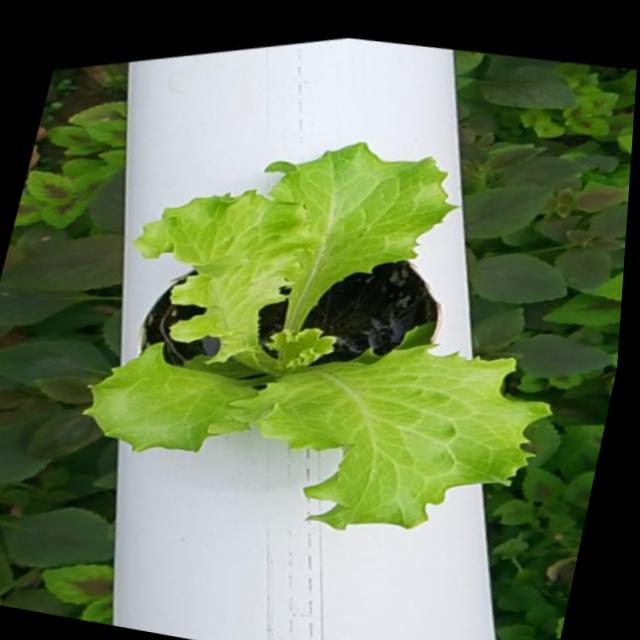Baby: (73, 145, 538, 531)
